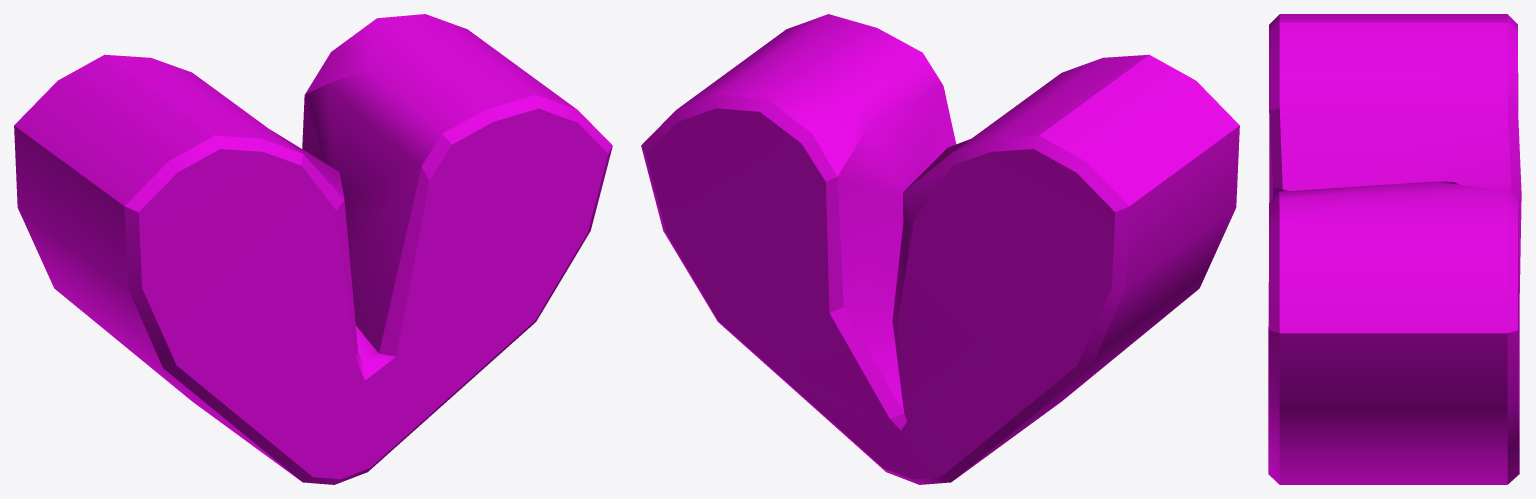
The model's file is Heart_Cushion.fbx.
3 views of the same model, side by side, from view 1: azimuth 30°, elevation 25°; view 2: azimuth 150°, elevation 25°; view 3: azimuth 270°, elevation 25° (orthographic). The views are drawn at different scales.
Visible parts, largest first — view 1: Heart_Cushion; view 2: Heart_Cushion; view 3: Heart_Cushion.
Part boxes in pixels (bbox=[...]): Heart_Cushion: bbox=[14, 14, 612, 484]; Heart_Cushion: bbox=[641, 14, 1239, 484]; Heart_Cushion: bbox=[1268, 14, 1521, 484].
Size of the model in its own units: 184 by 137 by 80.34.
